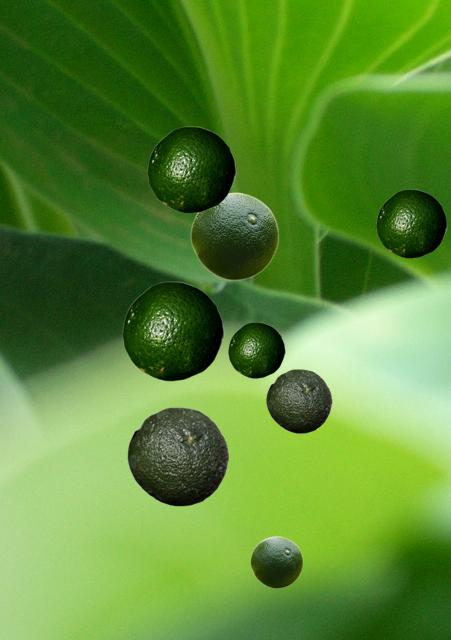calamansi: (122, 281, 223, 380), (127, 407, 228, 505), (190, 192, 278, 279), (147, 126, 235, 212), (376, 189, 446, 257), (266, 369, 331, 432), (228, 322, 284, 377), (250, 536, 302, 587)
